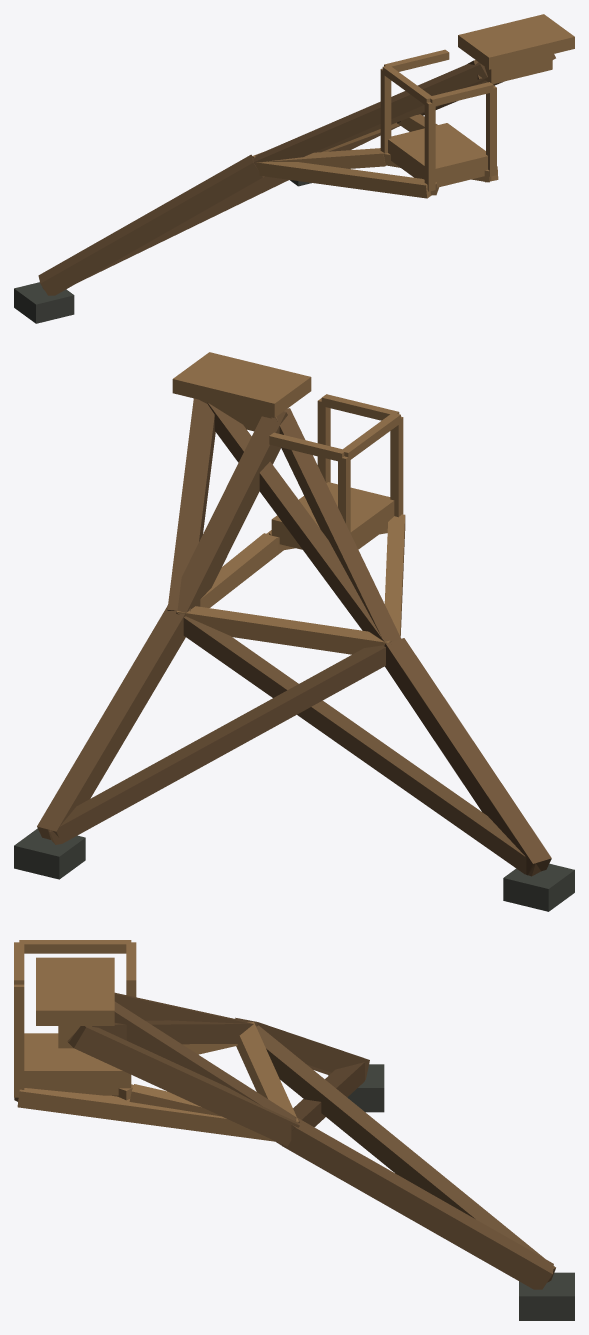
The model's file is support.glb.
The picture shows the model from 3 angles, top to bottom: view 1: azimuth 30°, elevation 25°; view 2: azimuth 150°, elevation 25°; view 3: azimuth 270°, elevation 25°; orthographic projection. The views are drawn at different scales.
Visible parts, largest first — view 1: west-raker-timber-dark.002, west-head-left-timber-dark.002, joint-bearing-timber.002, fastening-platform-timber.002, platform-brace-west-b-timber.002, west-cross-raker-timber-dark.002, west-saddle-iron.002, platform-brace-west-a-timber.002, bearing-header-timber.002, platform-rail-post-1-timber.002, platform-rail-post-2-timber.002, platform-rail-post-0-timber.002 (+4 smaller); view 2: west-cross-raker-timber-dark.002, east-cross-raker-timber-dark.002, west-raker-timber-dark.002, east-raker-timber-dark.002, east-head-left-timber-dark.002, joint-bearing-timber.002, west-head-right-timber-dark.002, west-head-left-timber-dark.002, east-head-right-timber-dark.002, middle-tie-timber.002, fastening-platform-timber.002, west-saddle-iron.002 (+9 smaller); view 3: east-raker-timber-dark.002, east-cross-raker-timber-dark.002, east-head-right-timber-dark.002, joint-bearing-timber.002, platform-brace-east-b-timber.002, fastening-platform-timber.002, east-head-left-timber-dark.002, east-saddle-iron.002, west-head-right-timber-dark.002, middle-tie-timber.002, west-raker-timber-dark.002, west-head-left-timber-dark.002 (+6 smaller).
Part boxes in pixels (left/top/right/bottom): west-raker-timber-dark.002: left=38, top=154, right=262, bottom=295; west-head-left-timber-dark.002: left=253, top=62, right=487, bottom=165; joint-bearing-timber.002: left=458, top=14, right=574, bottom=69; fastening-platform-timber.002: left=388, top=123, right=487, bottom=187; platform-brace-west-b-timber.002: left=256, top=162, right=431, bottom=198; west-cross-raker-timber-dark.002: left=42, top=125, right=400, bottom=289; west-saddle-iron.002: left=14, top=282, right=74, bottom=323; platform-brace-west-a-timber.002: left=263, top=148, right=385, bottom=168; bearing-header-timber.002: left=484, top=54, right=552, bottom=83; platform-rail-post-1-timber.002: left=424, top=102, right=435, bottom=191; platform-rail-post-2-timber.002: left=486, top=85, right=496, bottom=176; platform-rail-post-0-timber.002: left=380, top=68, right=391, bottom=153; west-cross-raker-timber-dark.002: left=176, top=612, right=540, bottom=876; east-cross-raker-timber-dark.002: left=48, top=645, right=385, bottom=844; west-raker-timber-dark.002: left=384, top=638, right=551, bottom=875; east-raker-timber-dark.002: left=37, top=608, right=185, bottom=839; east-head-left-timber-dark.002: left=166, top=411, right=287, bottom=612; joint-bearing-timber.002: left=172, top=352, right=311, bottom=417; west-head-right-timber-dark.002: left=207, top=403, right=392, bottom=643; west-head-left-timber-dark.002: left=275, top=408, right=401, bottom=641; east-head-right-timber-dark.002: left=167, top=398, right=215, bottom=610; middle-tie-timber.002: left=176, top=606, right=389, bottom=654; fastening-platform-timber.002: left=271, top=482, right=394, bottom=549; west-saddle-iron.002: left=503, top=863, right=574, bottom=911; east-raker-timber-dark.002: left=282, top=1117, right=553, bottom=1289; east-cross-raker-timber-dark.002: left=256, top=1025, right=555, bottom=1282; east-head-right-timber-dark.002: left=68, top=1026, right=299, bottom=1146; joint-bearing-timber.002: left=36, top=957, right=114, bottom=1025; platform-brace-east-b-timber.002: left=17, top=1088, right=274, bottom=1141; fastening-platform-timber.002: left=24, top=1033, right=131, bottom=1095; east-head-left-timber-dark.002: left=114, top=1001, right=295, bottom=1145; east-saddle-iron.002: left=519, top=1272, right=574, bottom=1320; west-head-right-timber-dark.002: left=67, top=1020, right=253, bottom=1044; middle-tie-timber.002: left=236, top=1022, right=298, bottom=1122; west-raker-timber-dark.002: left=235, top=1017, right=369, bottom=1079; west-head-left-timber-dark.002: left=114, top=992, right=253, bottom=1024.
Size of the model in its own units: 5.52 by 3.34 by 5.
